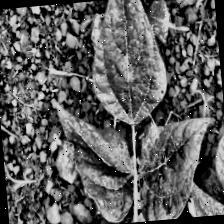ALS: (57, 102, 136, 224), (134, 117, 224, 222)
